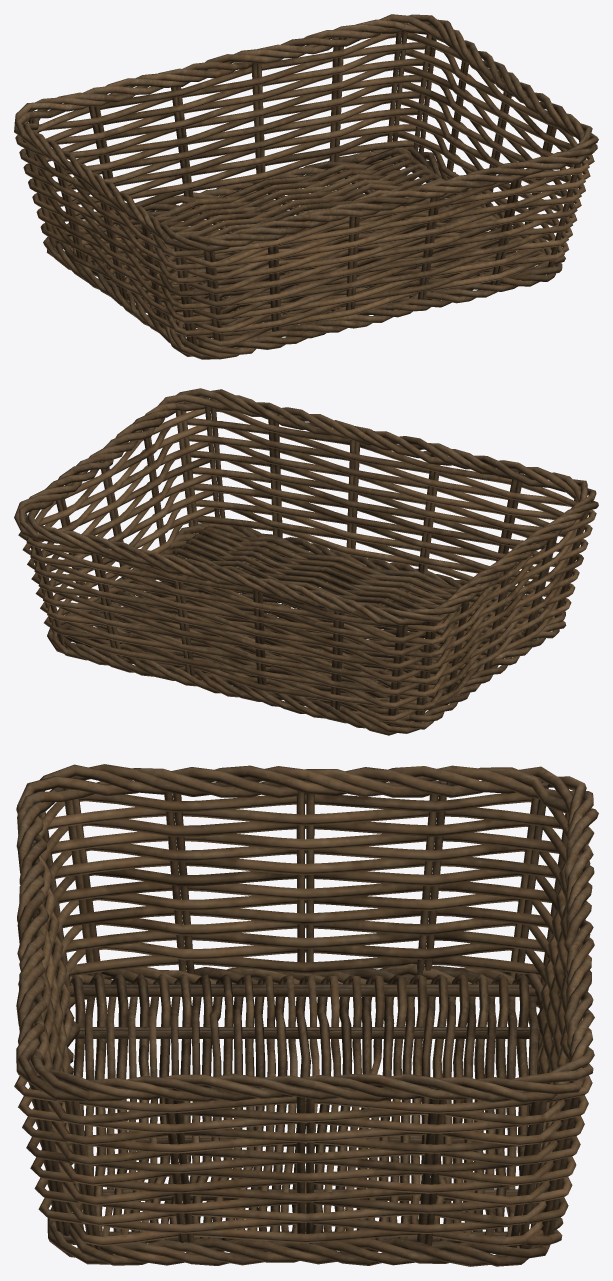
The model's file is wicker_basket_01_1k.gltf.
3 views of the same model, one above another, from view 1: azimuth 30°, elevation 25°; view 2: azimuth 150°, elevation 25°; view 3: azimuth 270°, elevation 25° (orthographic). The views are drawn at different scales.
Parts seen in each view (by area): view 1: wicker_basket_01; view 2: wicker_basket_01; view 3: wicker_basket_01.
Boxes of the visible parts, x1=… form: wicker_basket_01: x1=14, y1=14, x2=598, y2=359; wicker_basket_01: x1=14, y1=388, x2=598, y2=735; wicker_basket_01: x1=14, y1=764, x2=598, y2=1266.
Size of the model in its own units: 0.3832 by 0.1174 by 0.295.
1 material, 1 textured.
